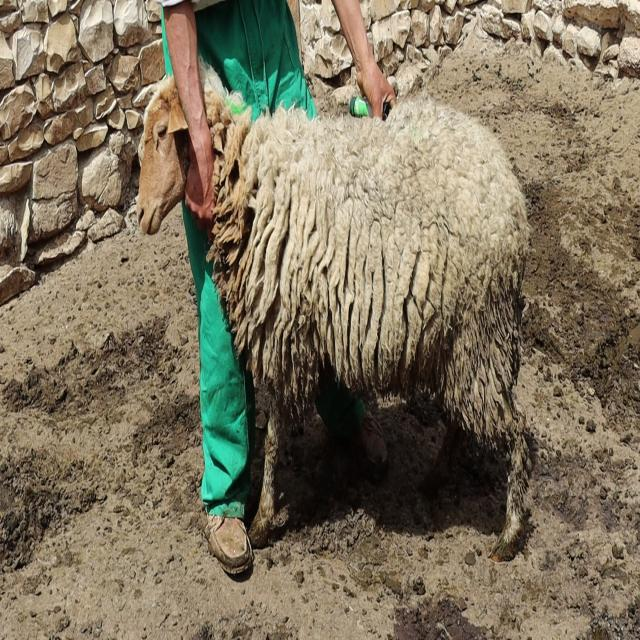Score_4: (200, 59, 531, 561)
